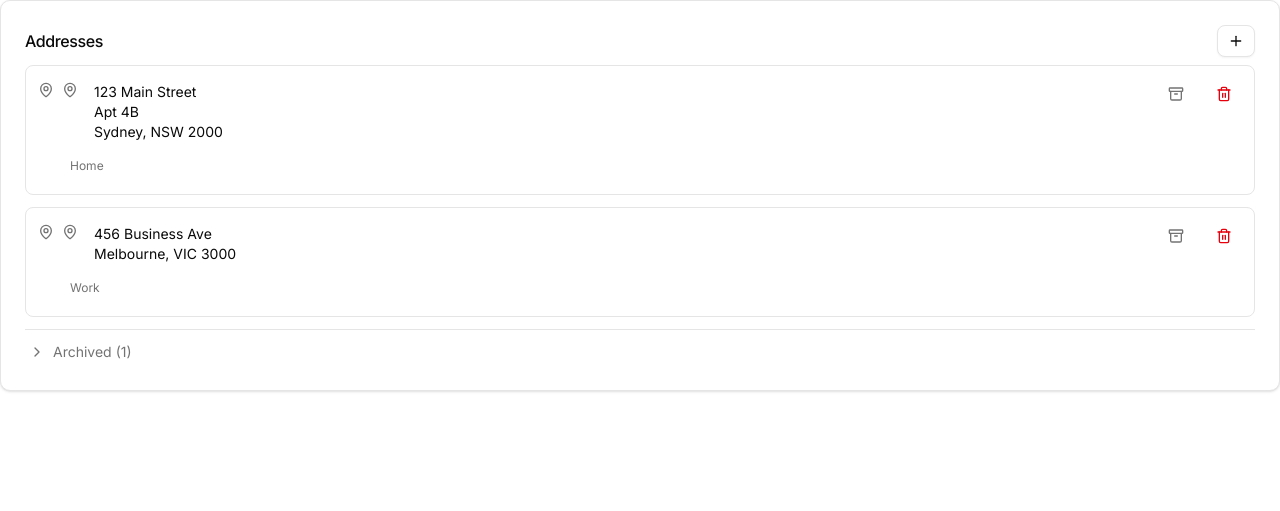
Test: ContactAddressesList › archived addresses › keeps archived addresses behind a collapsed section
Expected: the text "1 Old Farm Road" is not shown
Click the button with aria-label "Archived addresses (1)".
click(87, 352)  # box [25,338,1255,366]
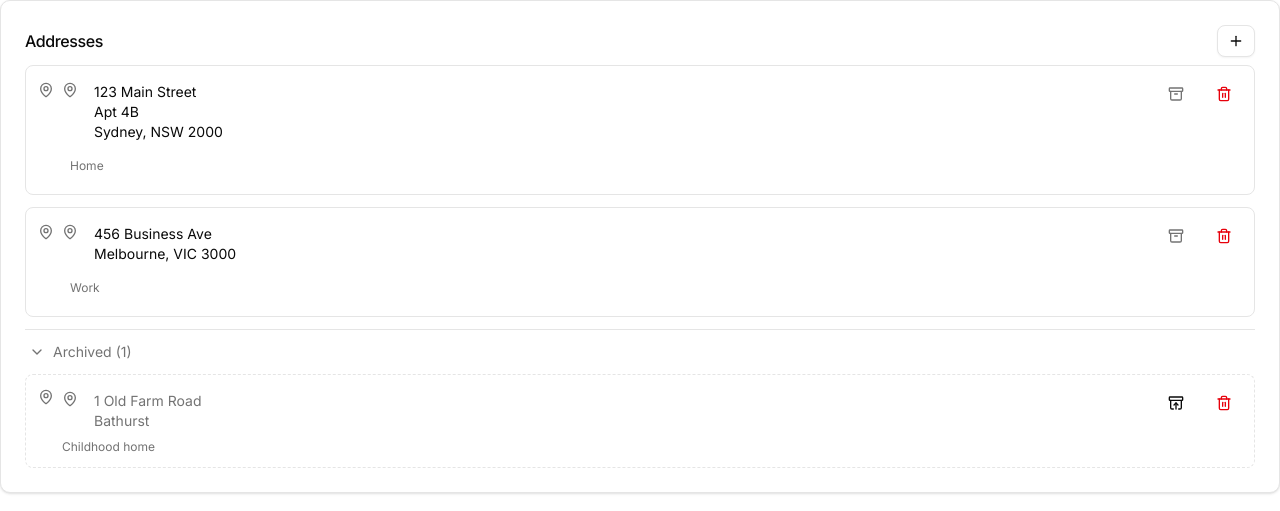
Expected: the text "1 Old Farm Road Bathurst" is shown, [94,391,202,431]
Expected: the text "Childhood home" is shown, [62,439,155,454]
